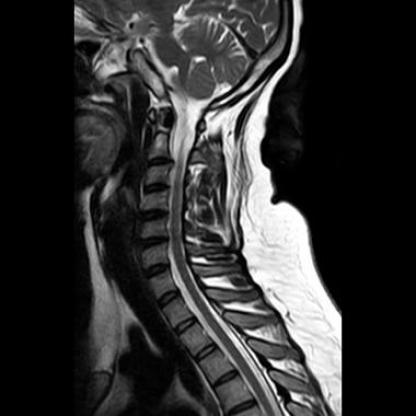Degenerative Disc Diseaserotation: (136, 235, 169, 249), (140, 208, 170, 223)
Disc Bulgerotation: (136, 234, 169, 248), (139, 208, 169, 223), (141, 182, 171, 195), (145, 156, 174, 169)
Osteophytesrotation: (136, 235, 169, 249)
